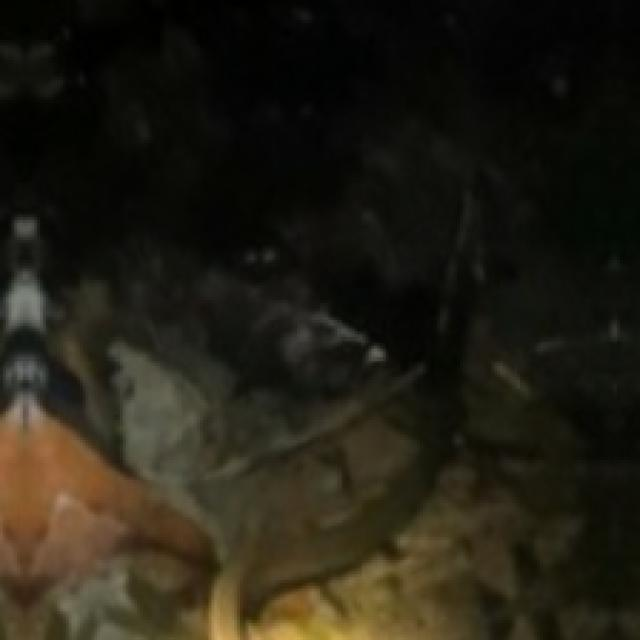king cobra: (199, 364, 452, 639)
